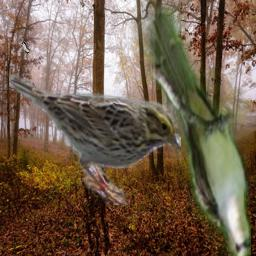Cuckoo: (131, 0, 251, 256)
Sparrow: (9, 74, 181, 205)
Swallow: (21, 41, 33, 54)
